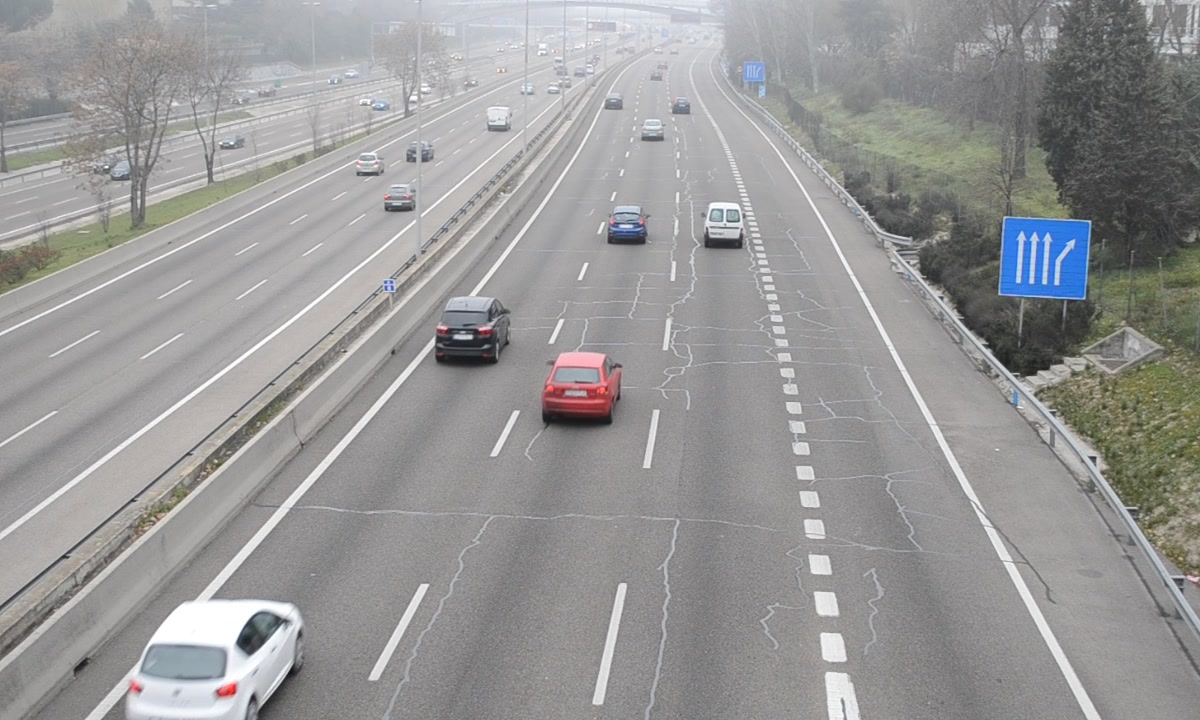car: (128, 600, 306, 720), (543, 350, 618, 417), (435, 298, 508, 362), (607, 207, 648, 245), (640, 118, 666, 143)
van: (703, 203, 747, 248)
